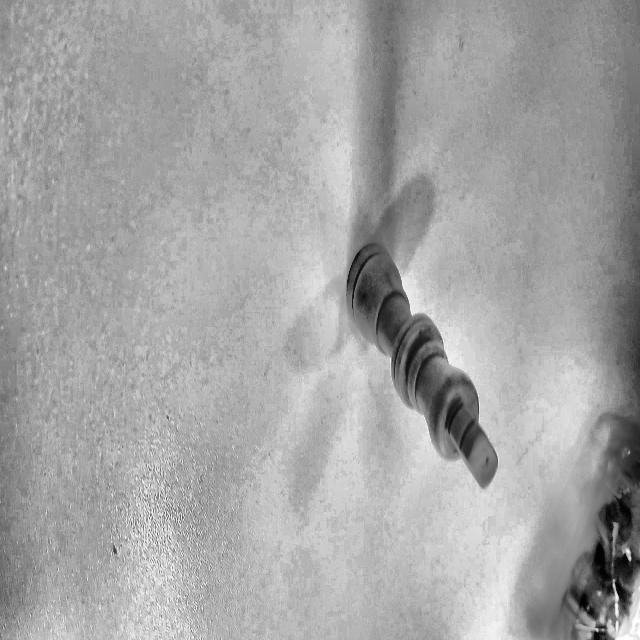white-king: (346, 241, 497, 487)
